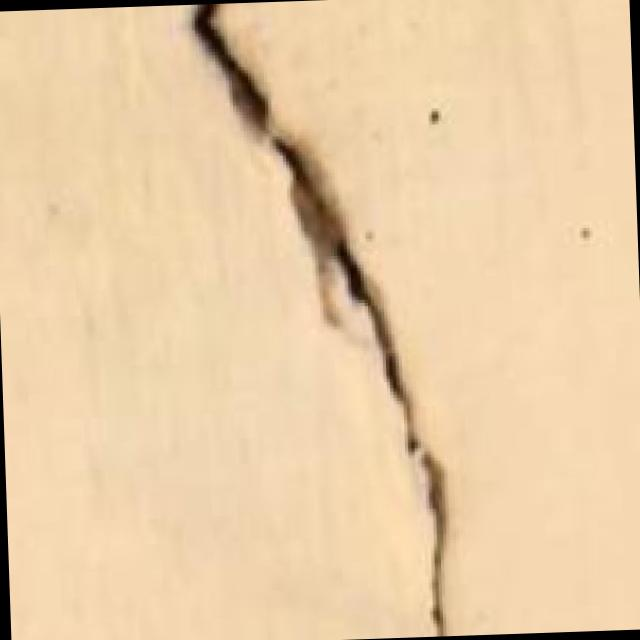crack: (158, 0, 471, 640)
